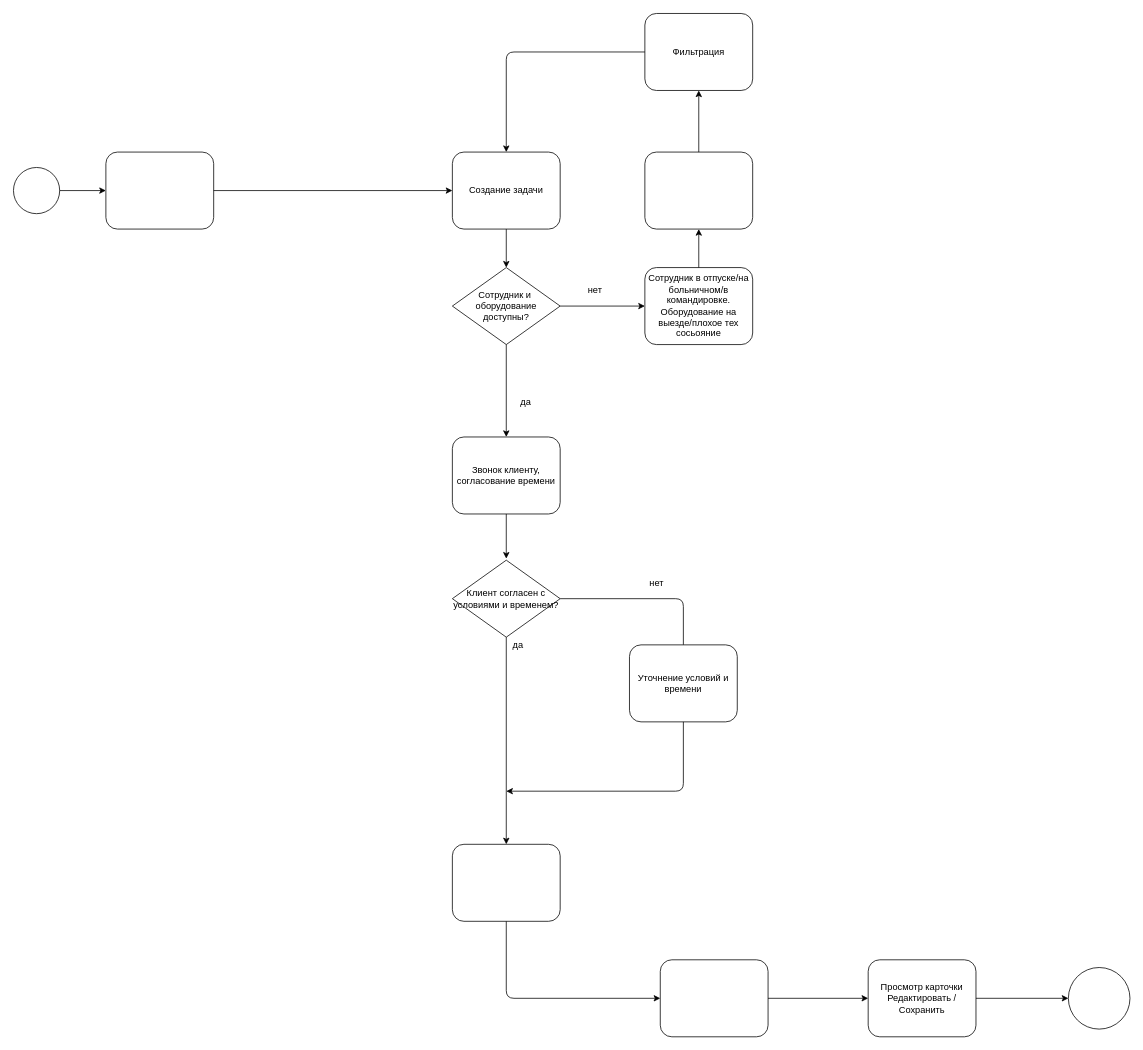
The diagram is 1143 pixels wide and 1050 high, and some of its shapes have lost their labels. Here are the shapes that lost their labels. From the top down, the centre of each, then its label:
At (x=159, y=190): "Авторизация в системе".
At (x=698, y=190): "Поиск свободных сотрудников/ доступного оборудования".
At (x=506, y=882): "Формирование съемочной группы".
At (x=714, y=998): "Выбрать дату, время, локацию. Выбрать сотрудников, Выбор оборудования".
